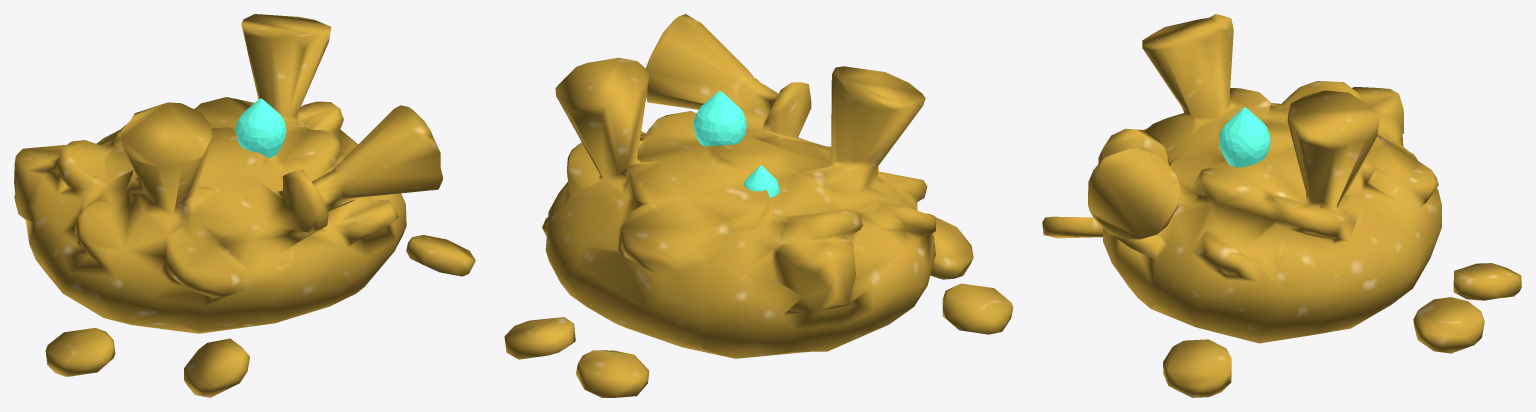
Rendered from gold-pile.glb.
3 views of the same model, side by side, from view 1: azimuth 30°, elevation 25°; view 2: azimuth 150°, elevation 25°; view 3: azimuth 270°, elevation 25° (orthographic). The views are drawn at different scales.
Visible parts, largest first — view 1: gold, gems; view 2: gold, gems; view 3: gold, gems.
Part boxes in pixels (x1,y1,x2,y2): gold: (14, 14, 475, 397); gems: (235, 98, 286, 157); gold: (504, 14, 1013, 397); gems: (693, 91, 779, 197); gold: (1042, 14, 1521, 397); gems: (1219, 107, 1270, 167).
Size of the model in its own units: 0.5463 by 0.2807 by 0.5175.
Materials: 2 (2 with a texture image).
